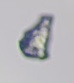microplastic: (17, 14, 55, 62)
